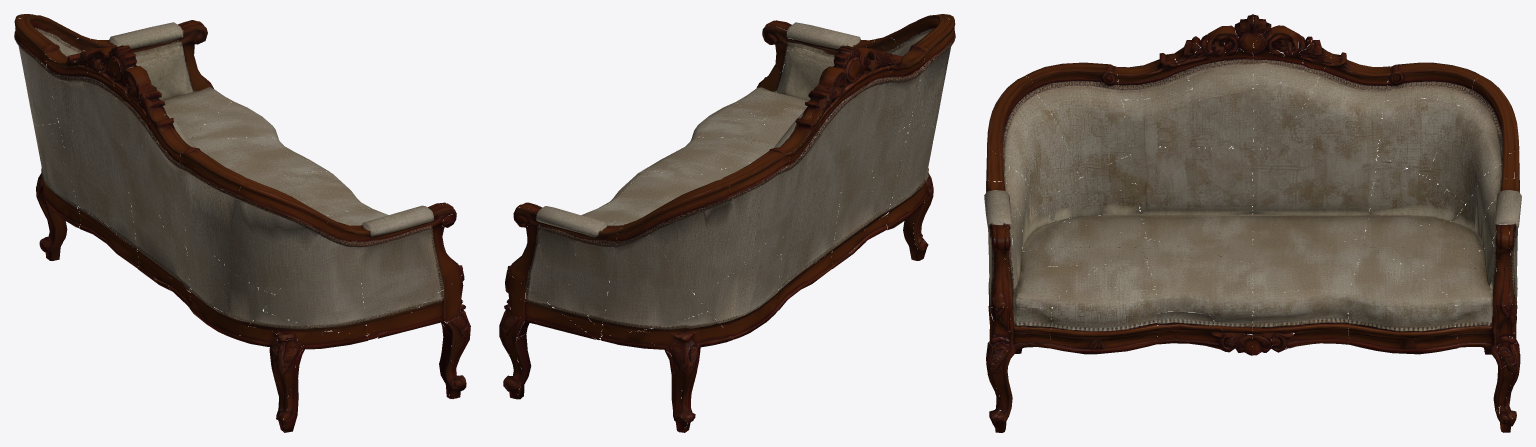
The model's file is Furn_Sofa_Colonial.glb.
3 renders of one model, left to right at view 1: azimuth 30°, elevation 25°; view 2: azimuth 150°, elevation 25°; view 3: azimuth 270°, elevation 25°, orthographic.
Visible parts, largest first — view 1: tripo_node_e41c668b-f42e-4504-8702-1ef25dcc0bd4; view 2: tripo_node_e41c668b-f42e-4504-8702-1ef25dcc0bd4; view 3: tripo_node_e41c668b-f42e-4504-8702-1ef25dcc0bd4.
Part boxes in pixels (x1=…): tripo_node_e41c668b-f42e-4504-8702-1ef25dcc0bd4: x1=14, y1=14, x2=470, y2=432; tripo_node_e41c668b-f42e-4504-8702-1ef25dcc0bd4: x1=499, y1=14, x2=955, y2=432; tripo_node_e41c668b-f42e-4504-8702-1ef25dcc0bd4: x1=984, y1=14, x2=1521, y2=432.
Bounding box in the file's own units: 0.5026 × 0.6424 × 1.
Materials: 1 (1 with a texture image).
